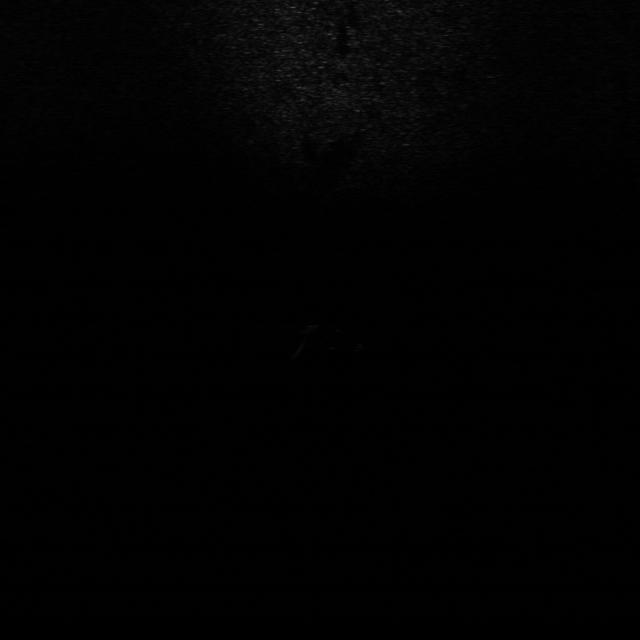human body: (288, 320, 373, 362)
